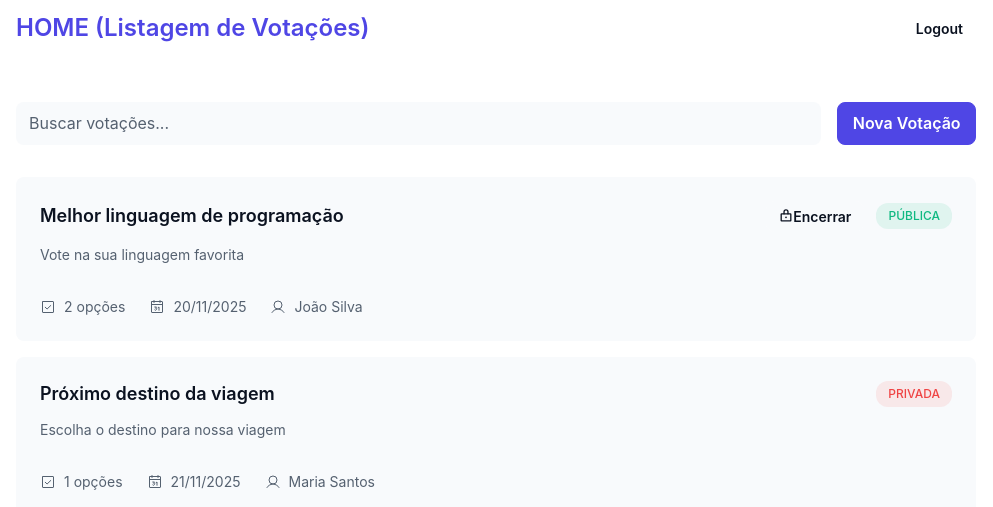
Test: HomePage › Estado vazio › deve exibir mensagem de busca vazia quando não encontrar resultados
Expected: the heading "Melhor linguagem de programação" is shown, [40,205,344,226]
Step 1. Type "inexistente" into the field with placeholder "Buscar votações..." → [419, 123], box [16,102,821,145]
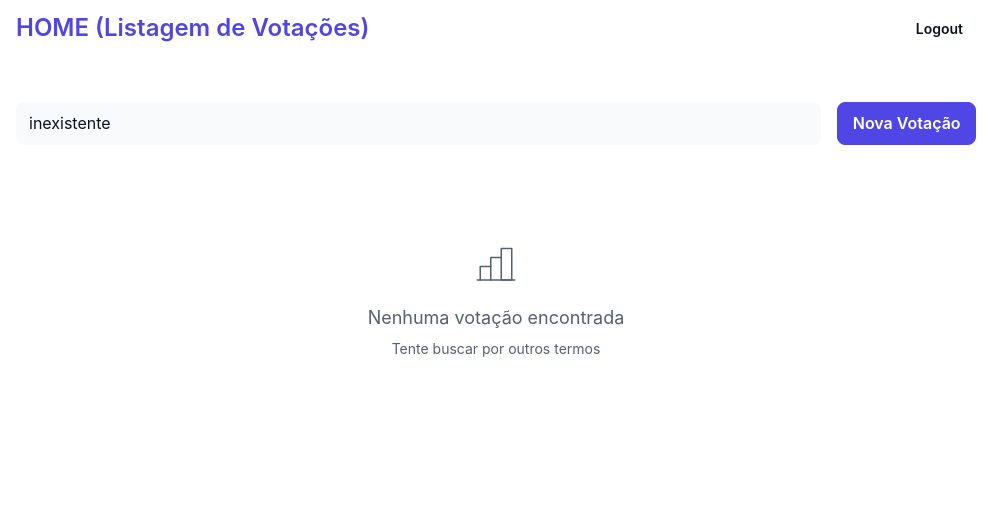
Expected: the text "Tente buscar por outros termos" is shown, [392,340,600,357]
